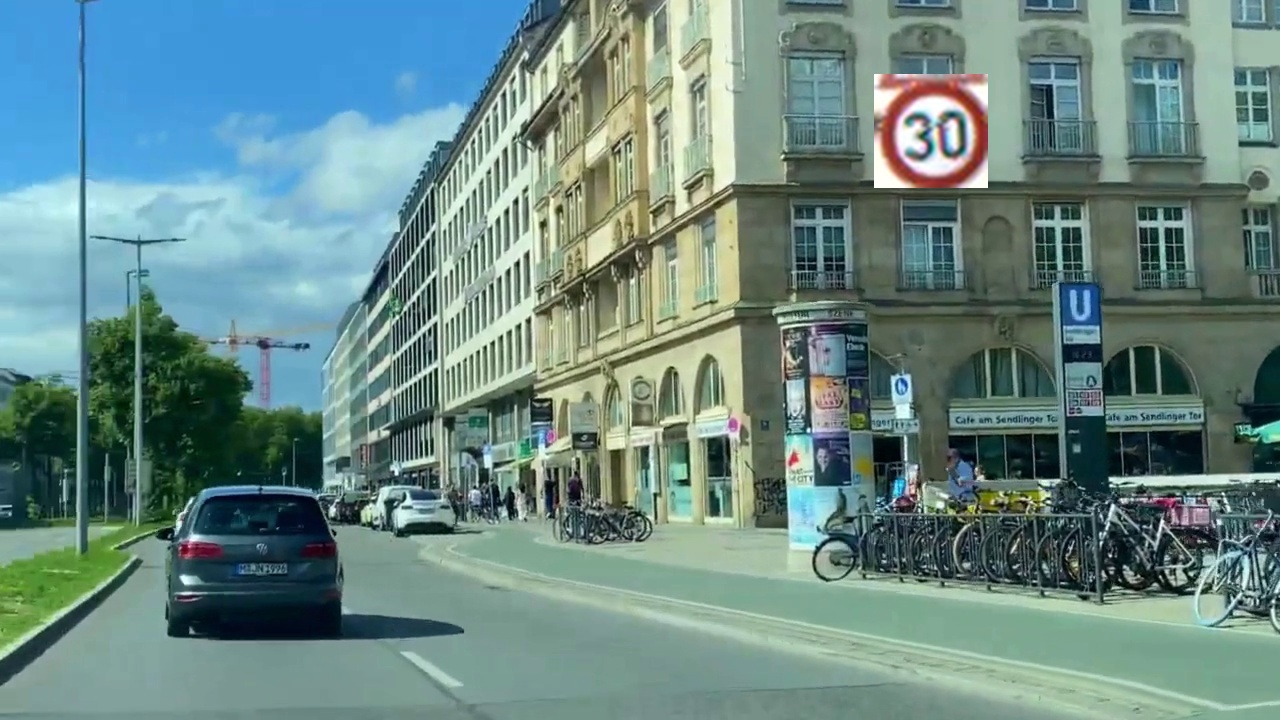Speed 30: (874, 74, 988, 188)
